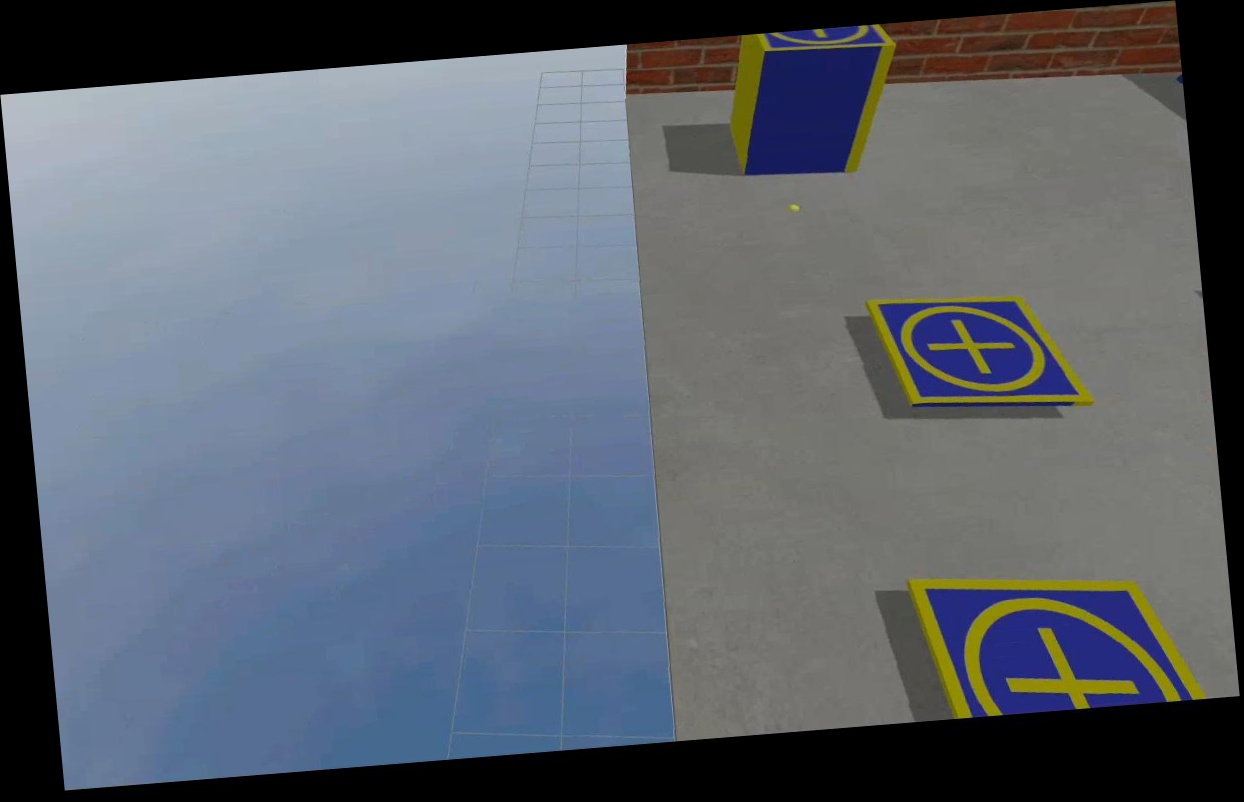small_base: (910, 554, 1204, 721), (866, 281, 1095, 422), (757, 23, 897, 60)
